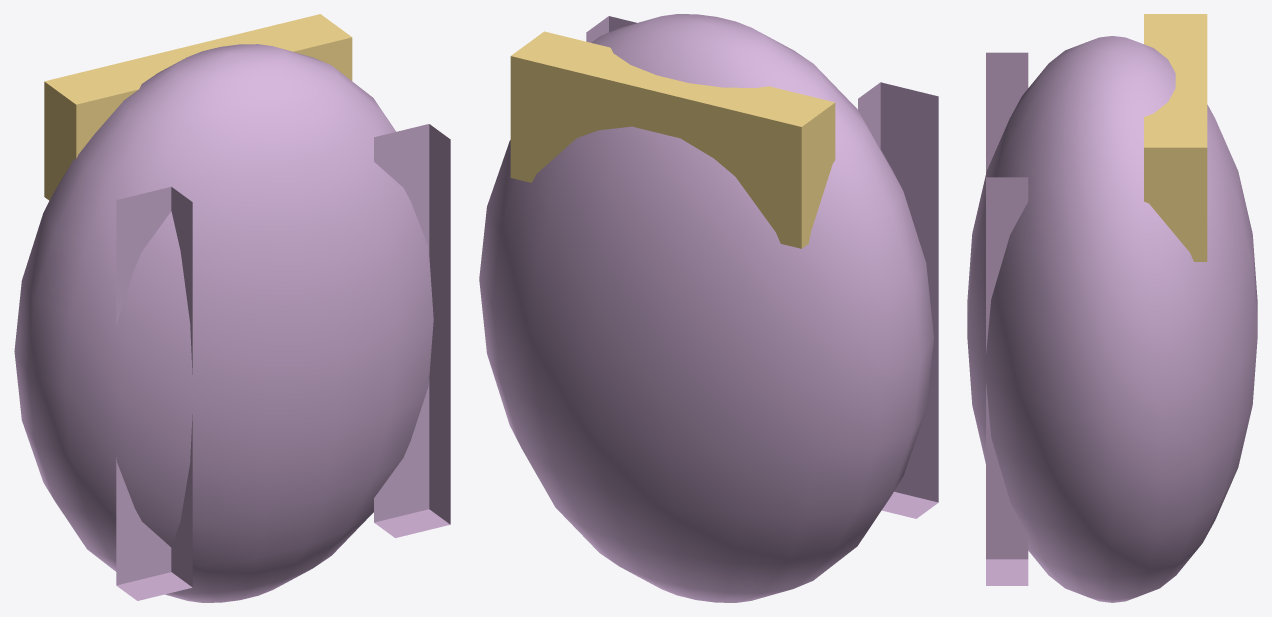
File: mini_backpack.glb
3 renders of one model, left to right at view 1: azimuth 30°, elevation 25°; view 2: azimuth 150°, elevation 25°; view 3: azimuth 270°, elevation 25°, orthographic. The views are drawn at different scales.
Parts seen in each view (by area): view 1: Mini Backpack; view 2: Mini Backpack; view 3: Mini Backpack.
Part boxes in pixels (x1=…): Mini Backpack: x1=14, y1=14, x2=450, y2=602; Mini Backpack: x1=479, y1=14, x2=938, y2=602; Mini Backpack: x1=967, y1=14, x2=1257, y2=602.
Size of the model in its own units: 0.44 by 0.56 by 0.2757.
